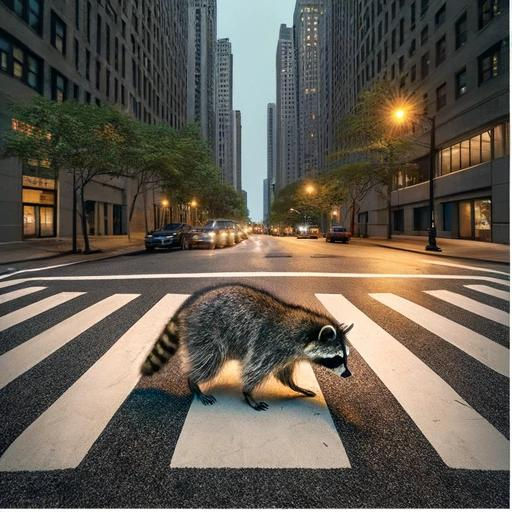raccoon: (133, 278, 360, 416)
